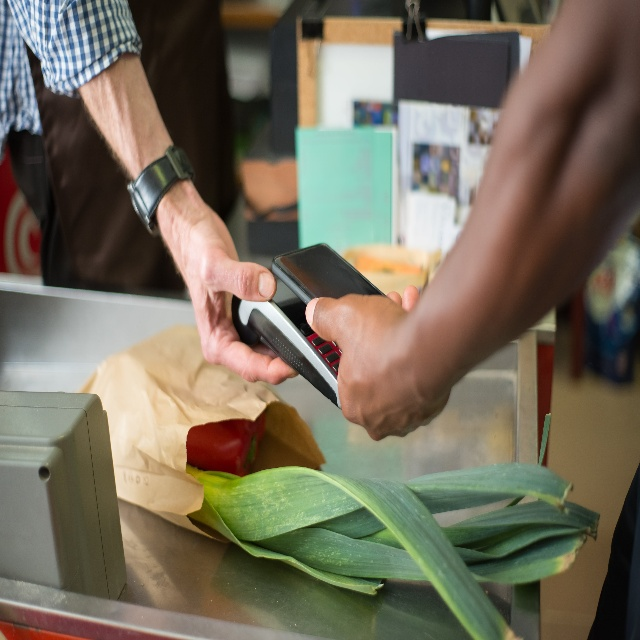Sin_guantes: (305, 282, 453, 442), (184, 210, 301, 385)
